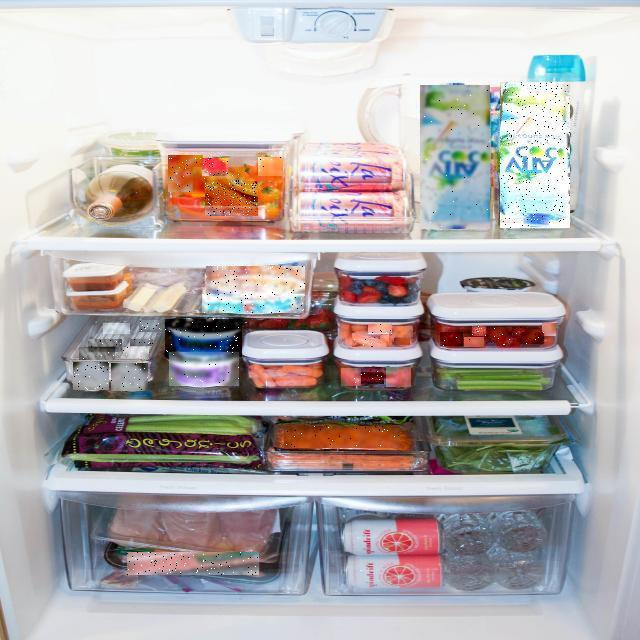bell_pepper: (76, 108, 334, 324), (116, 89, 400, 267), (70, 98, 316, 294), (88, 88, 316, 264), (66, 96, 270, 288)
carrot: (84, 224, 484, 640)
cheese: (50, 156, 354, 470), (54, 148, 358, 444)
egg: (37, 196, 187, 586), (59, 166, 221, 498), (49, 179, 198, 537), (54, 173, 206, 519), (38, 167, 168, 501), (28, 176, 150, 528), (18, 195, 128, 585), (22, 180, 136, 540)
milk: (175, 114, 640, 343), (215, 114, 640, 342)
